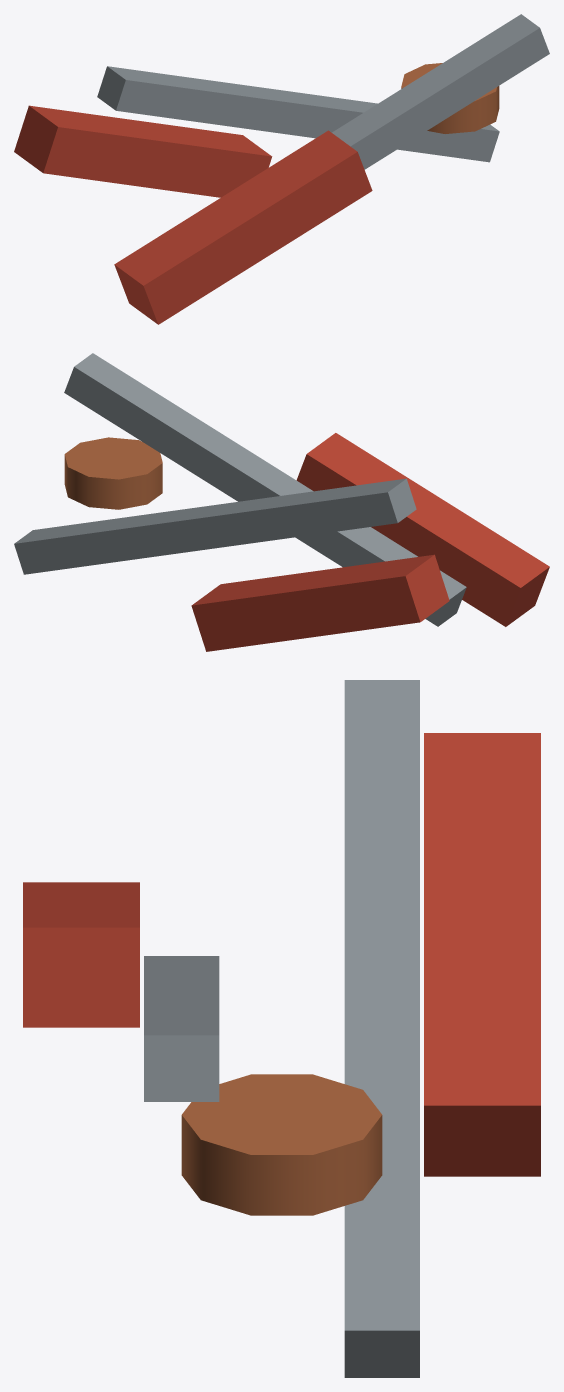
The model's file is pliers.glb.
The picture shows the model from 3 angles, top to bottom: view 1: azimuth 30°, elevation 25°; view 2: azimuth 150°, elevation 25°; view 3: azimuth 270°, elevation 25°; orthographic projection. The views are drawn at different scales.
Visible parts, largest first — view 1: pliers; view 2: pliers; view 3: pliers.
Boxes of the visible parts, x1,y1,x2,y2 form: pliers: [14, 14, 549, 324]; pliers: [14, 353, 549, 651]; pliers: [23, 680, 540, 1377].
Size of the model in its own units: 0.1207 by 0.0461 by 0.062.
